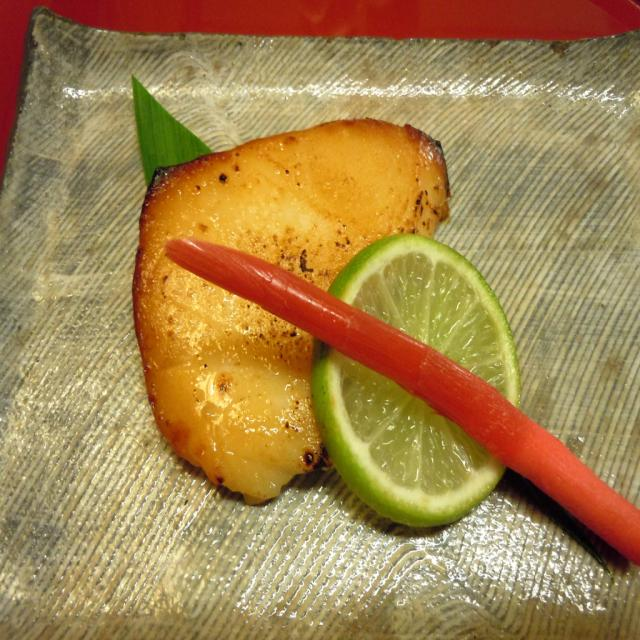Lemon: (312, 232, 521, 530)
